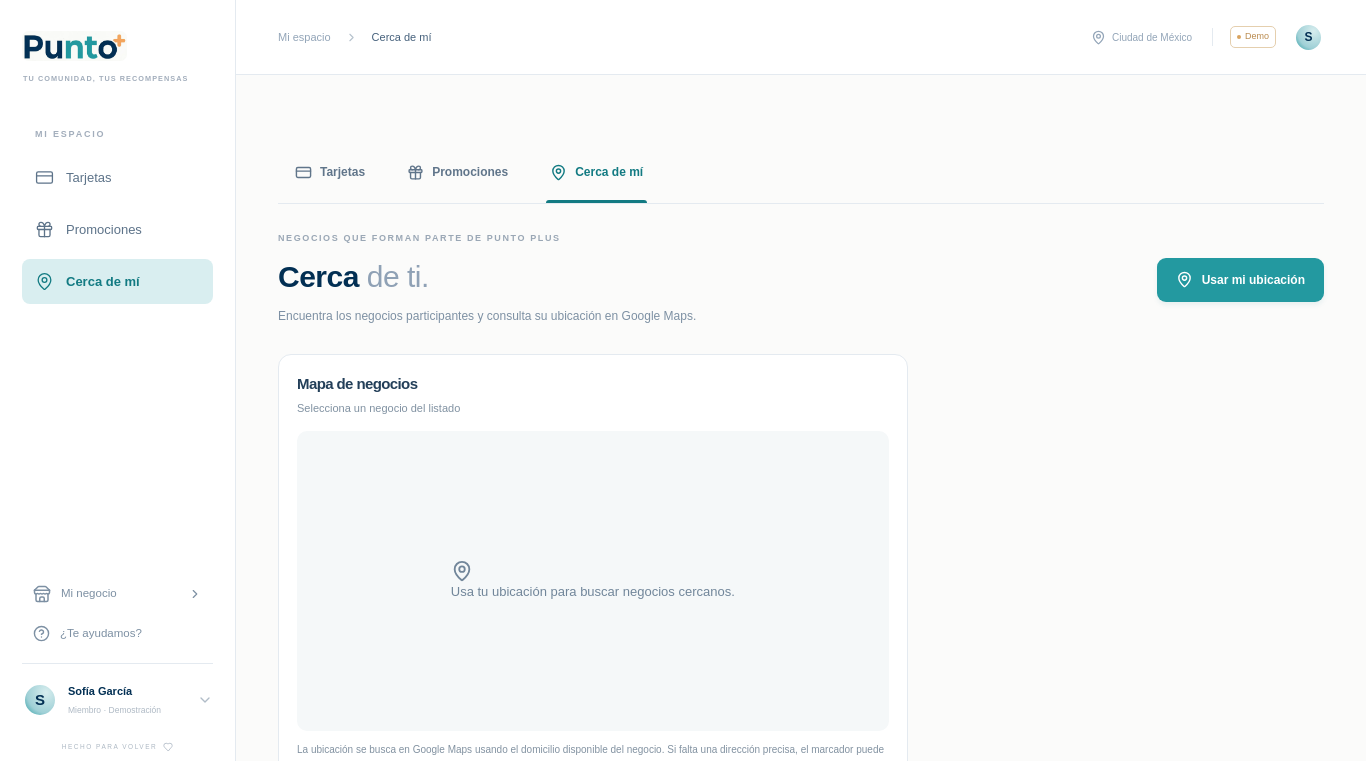
Test: Experiencia de cliente › Cerca de mí envía las coordenadas del cliente y no consulta otras pestañas
The image size is (1366, 761).
Expected: the text "Usa tu ubicación para buscar negocios cercanos." is shown, [451,582,735,602]
Step 1. Click the button "Usar mi ubicación" → (1240, 280), box [1157,258,1324,302]
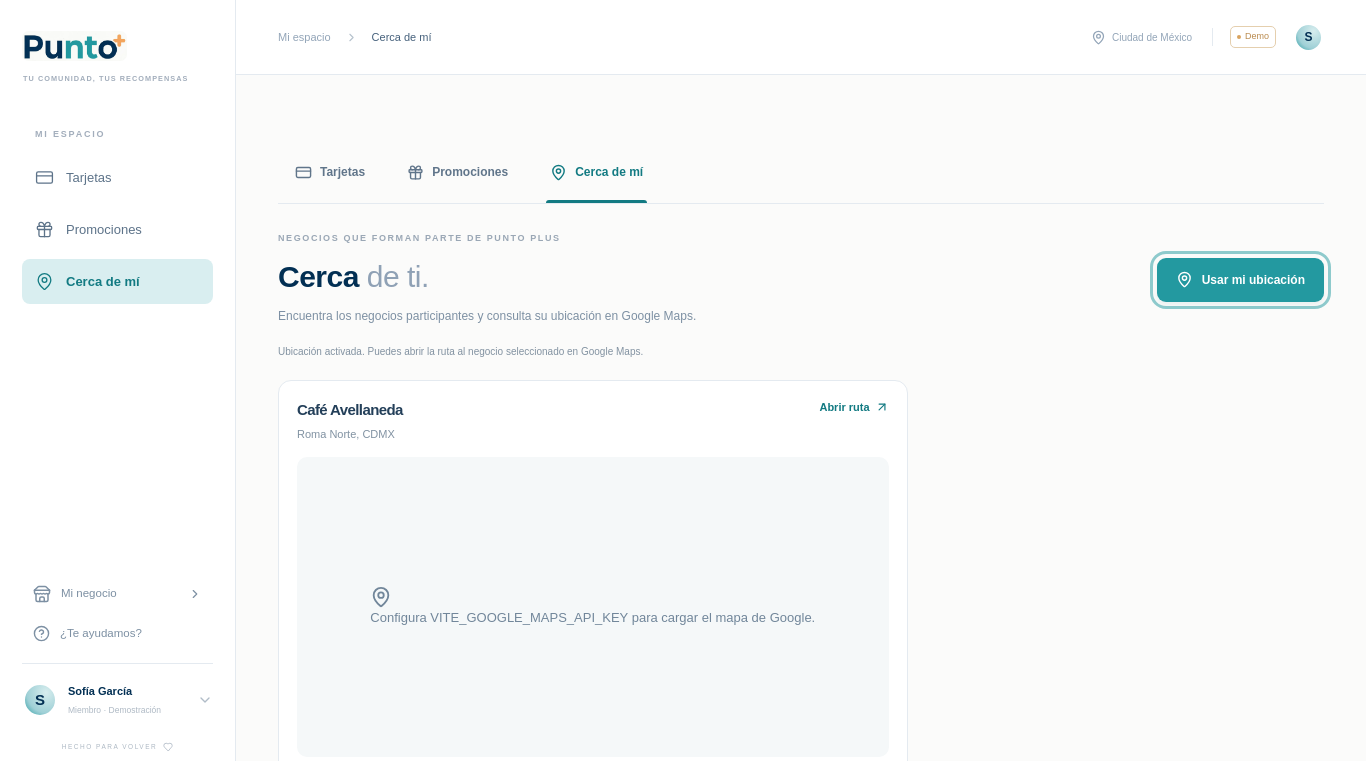
Expected: the text "Configura VITE_GOOGLE_MAPS_API_KEY para cargar el mapa de Google" is shown, [370,610,815,625]
